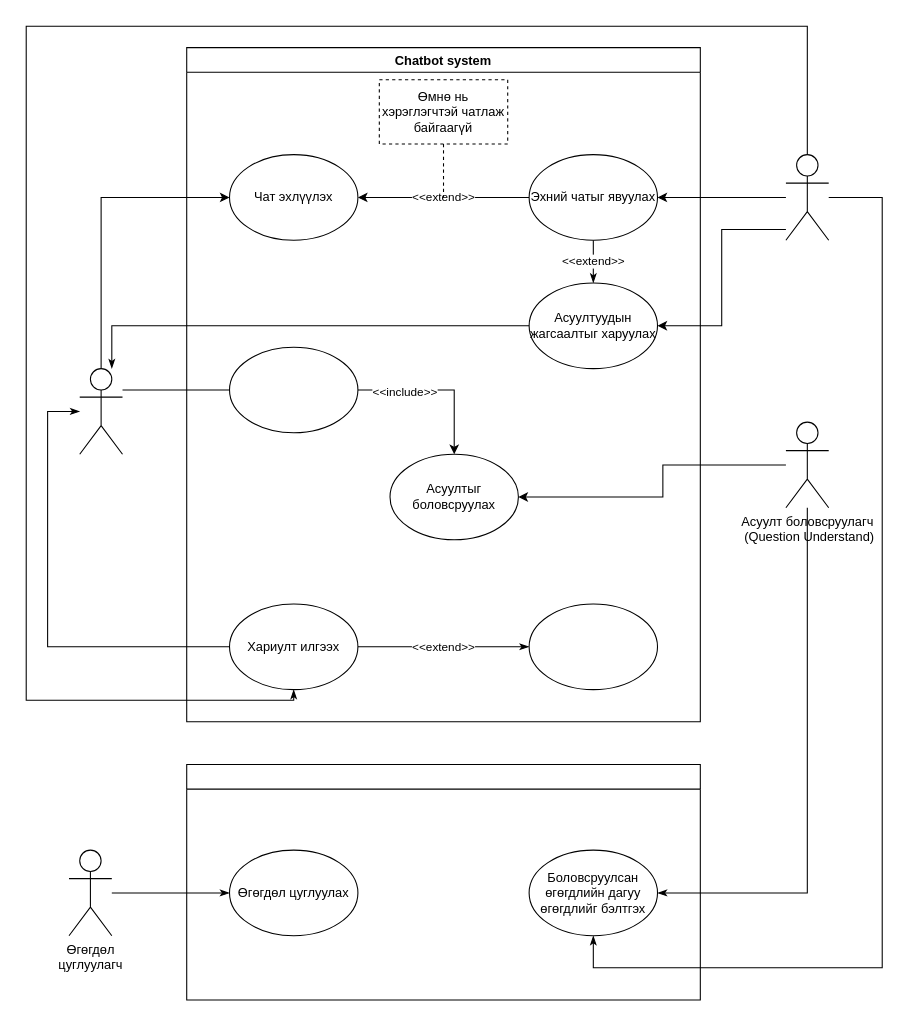
The diagram is 910 pixels wide and 1019 high, and some of its shapes have lost their labels. The box of each missing label's shape, as (x1, y1, x2, y2) in pixels:
AWS EC2: (186, 763, 700, 1000)
Асуулт асуух: (228, 346, 358, 433)
Сонголт бүхий дэлгэрэнгүй мэдээллийг дүрслэх: (528, 603, 658, 690)
Хэрэглэгч: (79, 368, 123, 454)
Чатбот: (785, 154, 829, 240)
